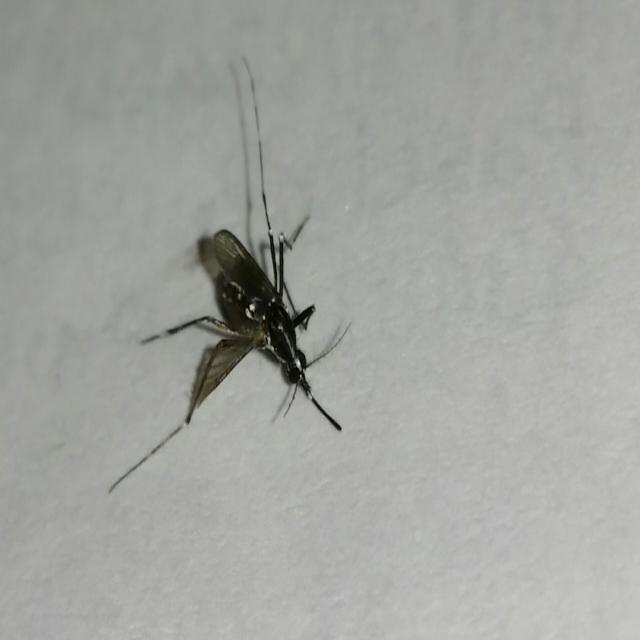albopictus: (114, 63, 361, 518)
